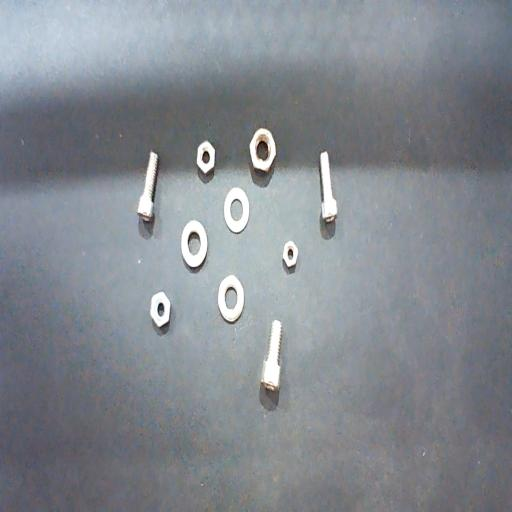nut: (250, 128, 276, 172), (150, 291, 171, 329), (196, 140, 216, 176), (282, 242, 299, 270)
screw: (261, 320, 282, 392), (137, 151, 158, 222), (319, 151, 337, 223)
washer: (181, 220, 207, 268), (218, 275, 244, 323), (224, 187, 249, 234)
